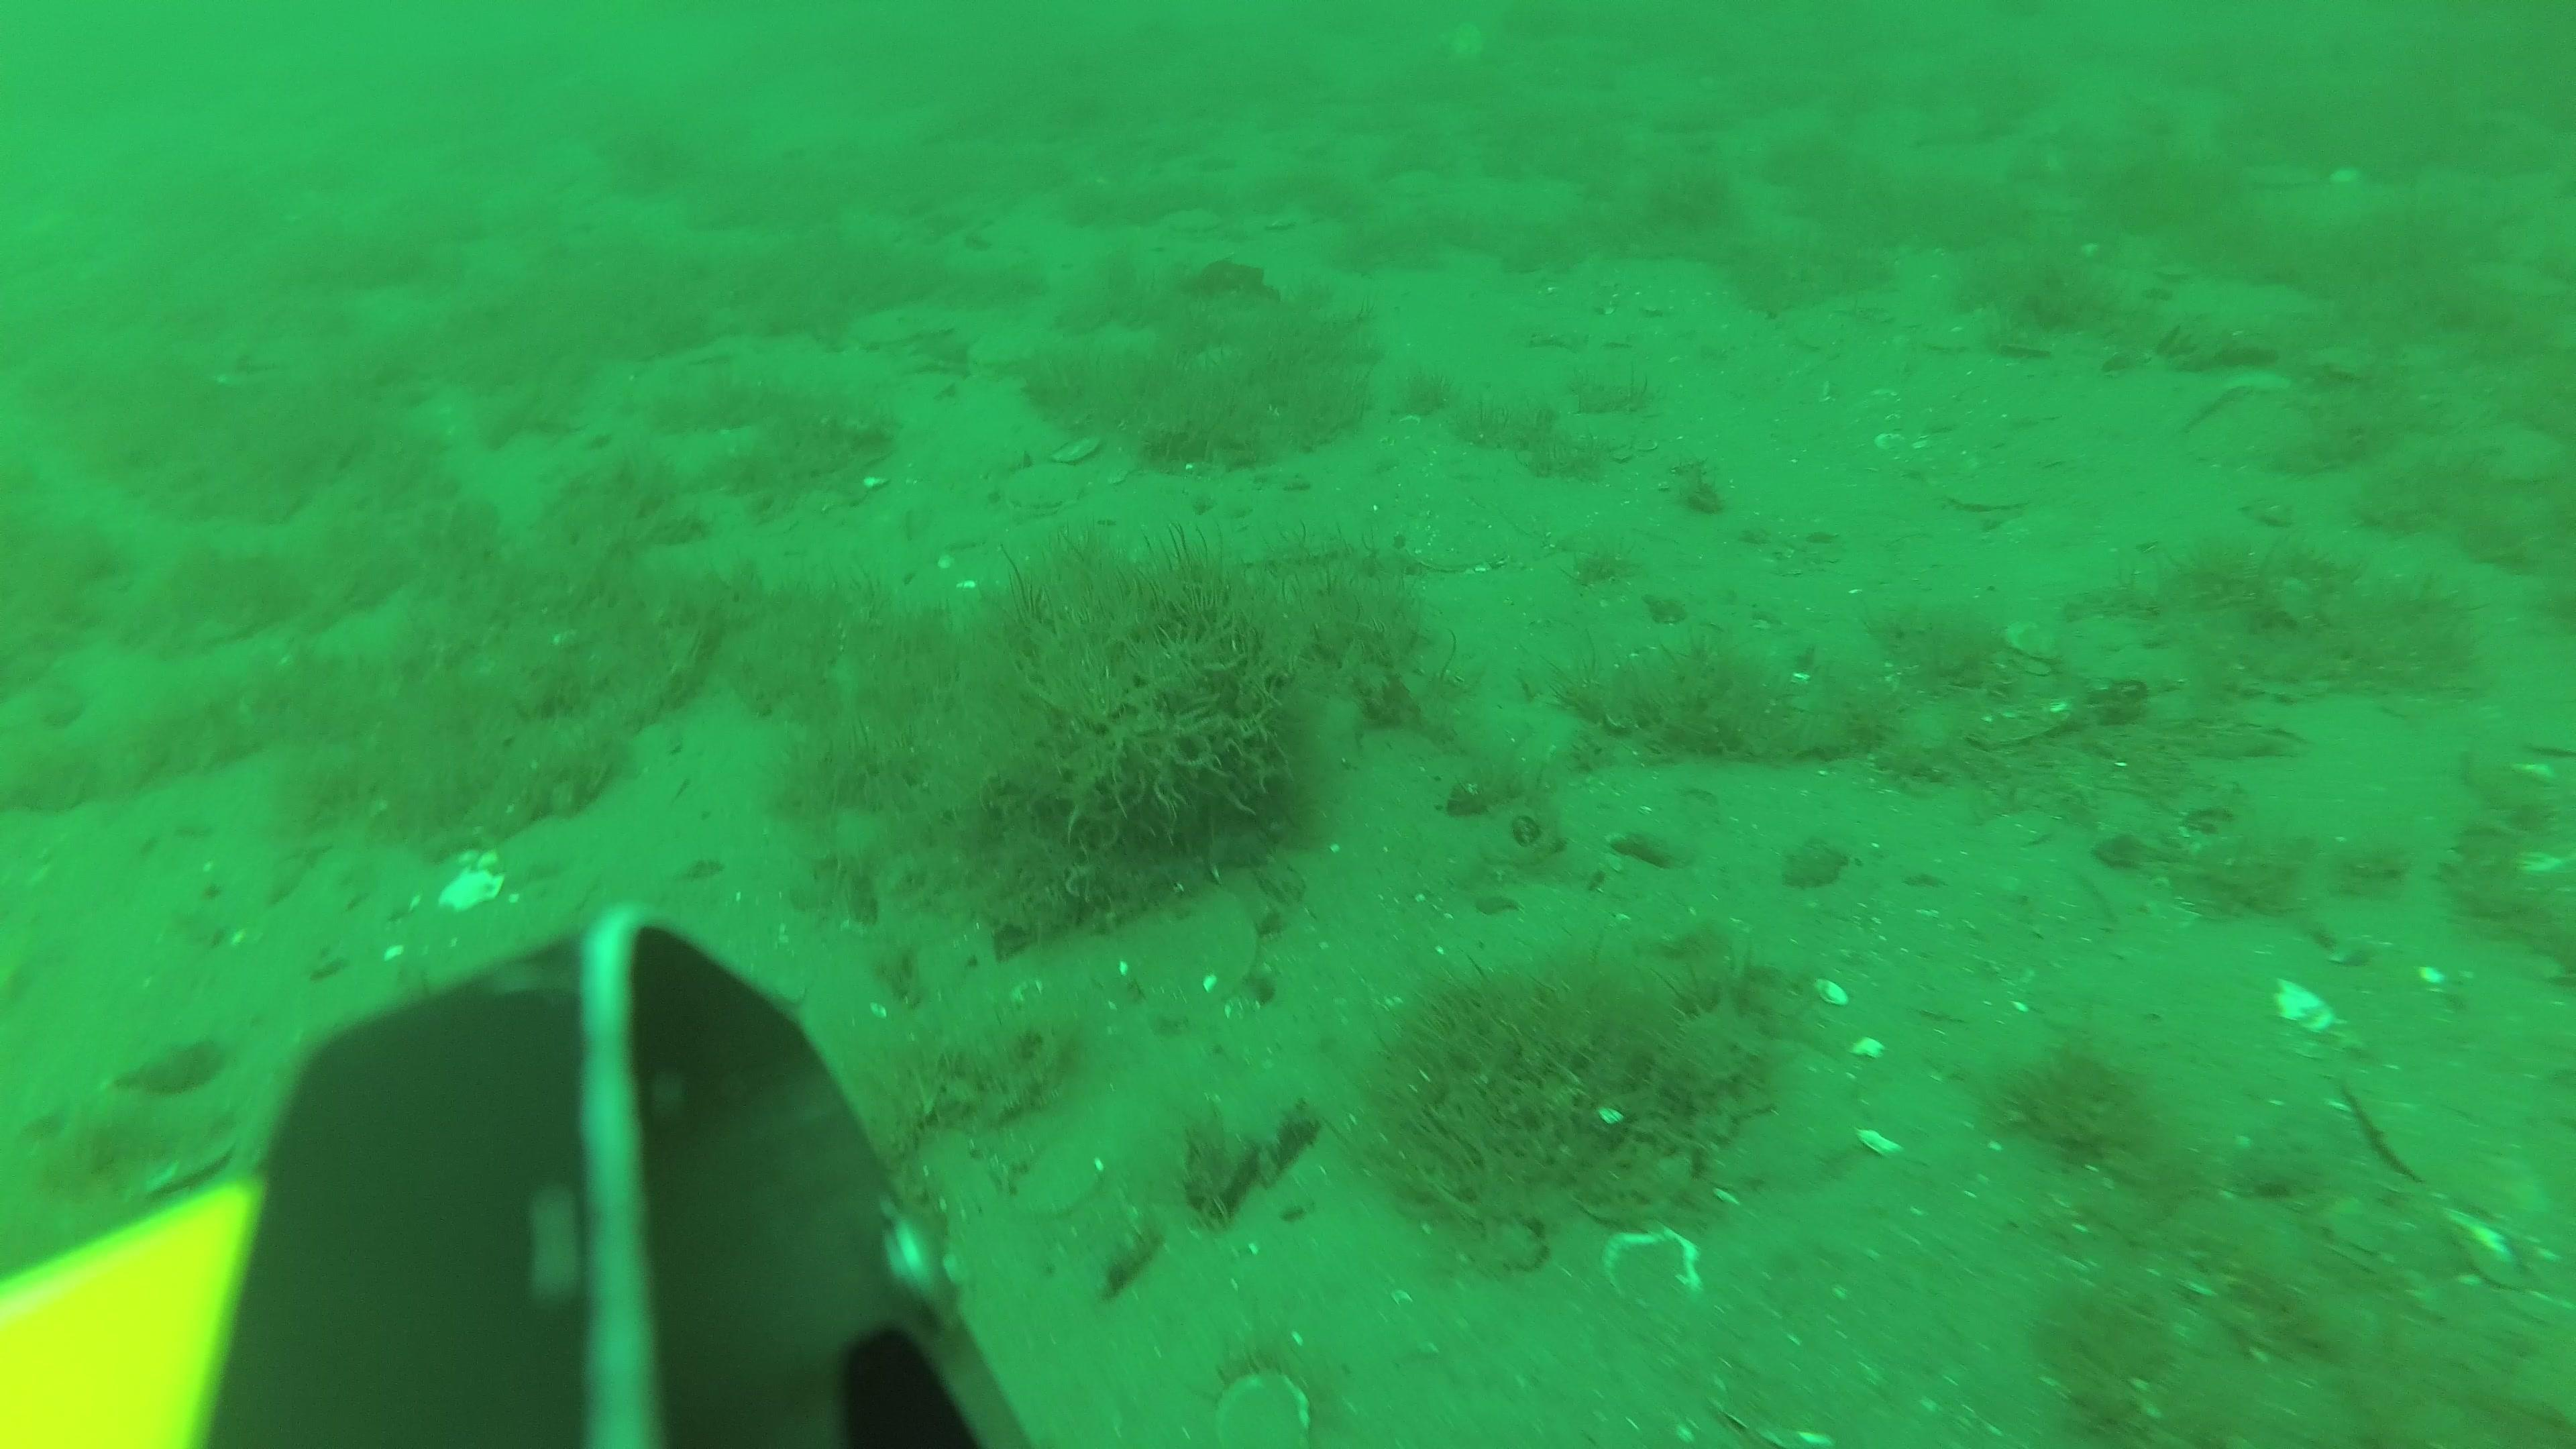scallop: (1138, 885, 1261, 1028), (1016, 1125, 1111, 1219), (1212, 1366, 1315, 1449), (1601, 1224, 1704, 1306), (1003, 465, 1090, 517), (1944, 467, 2031, 513)
